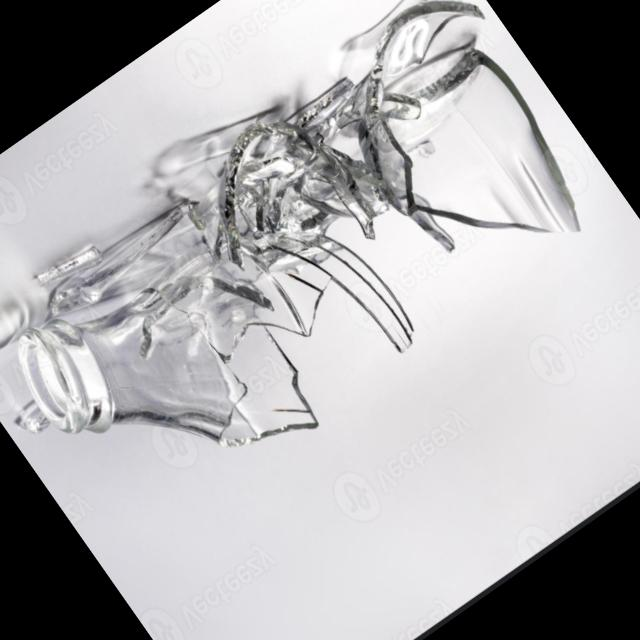PecahanKaca: (0, 0, 624, 560), (0, 203, 345, 554)
